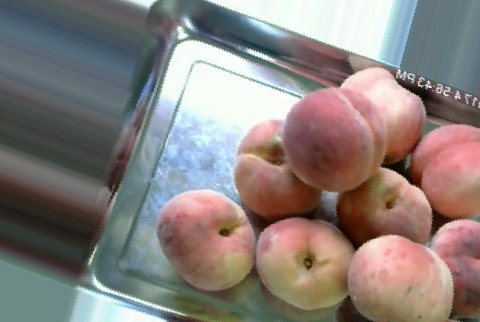Peach: (282, 88, 389, 195), (159, 189, 256, 290), (254, 216, 357, 311), (348, 233, 452, 322), (235, 116, 324, 217), (336, 66, 426, 163), (336, 168, 432, 248), (410, 123, 478, 219), (430, 216, 480, 313)
